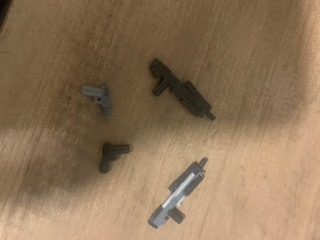pistol: (77, 84, 117, 118), (96, 140, 131, 175)
rifle: (146, 58, 217, 122), (147, 156, 208, 229)
